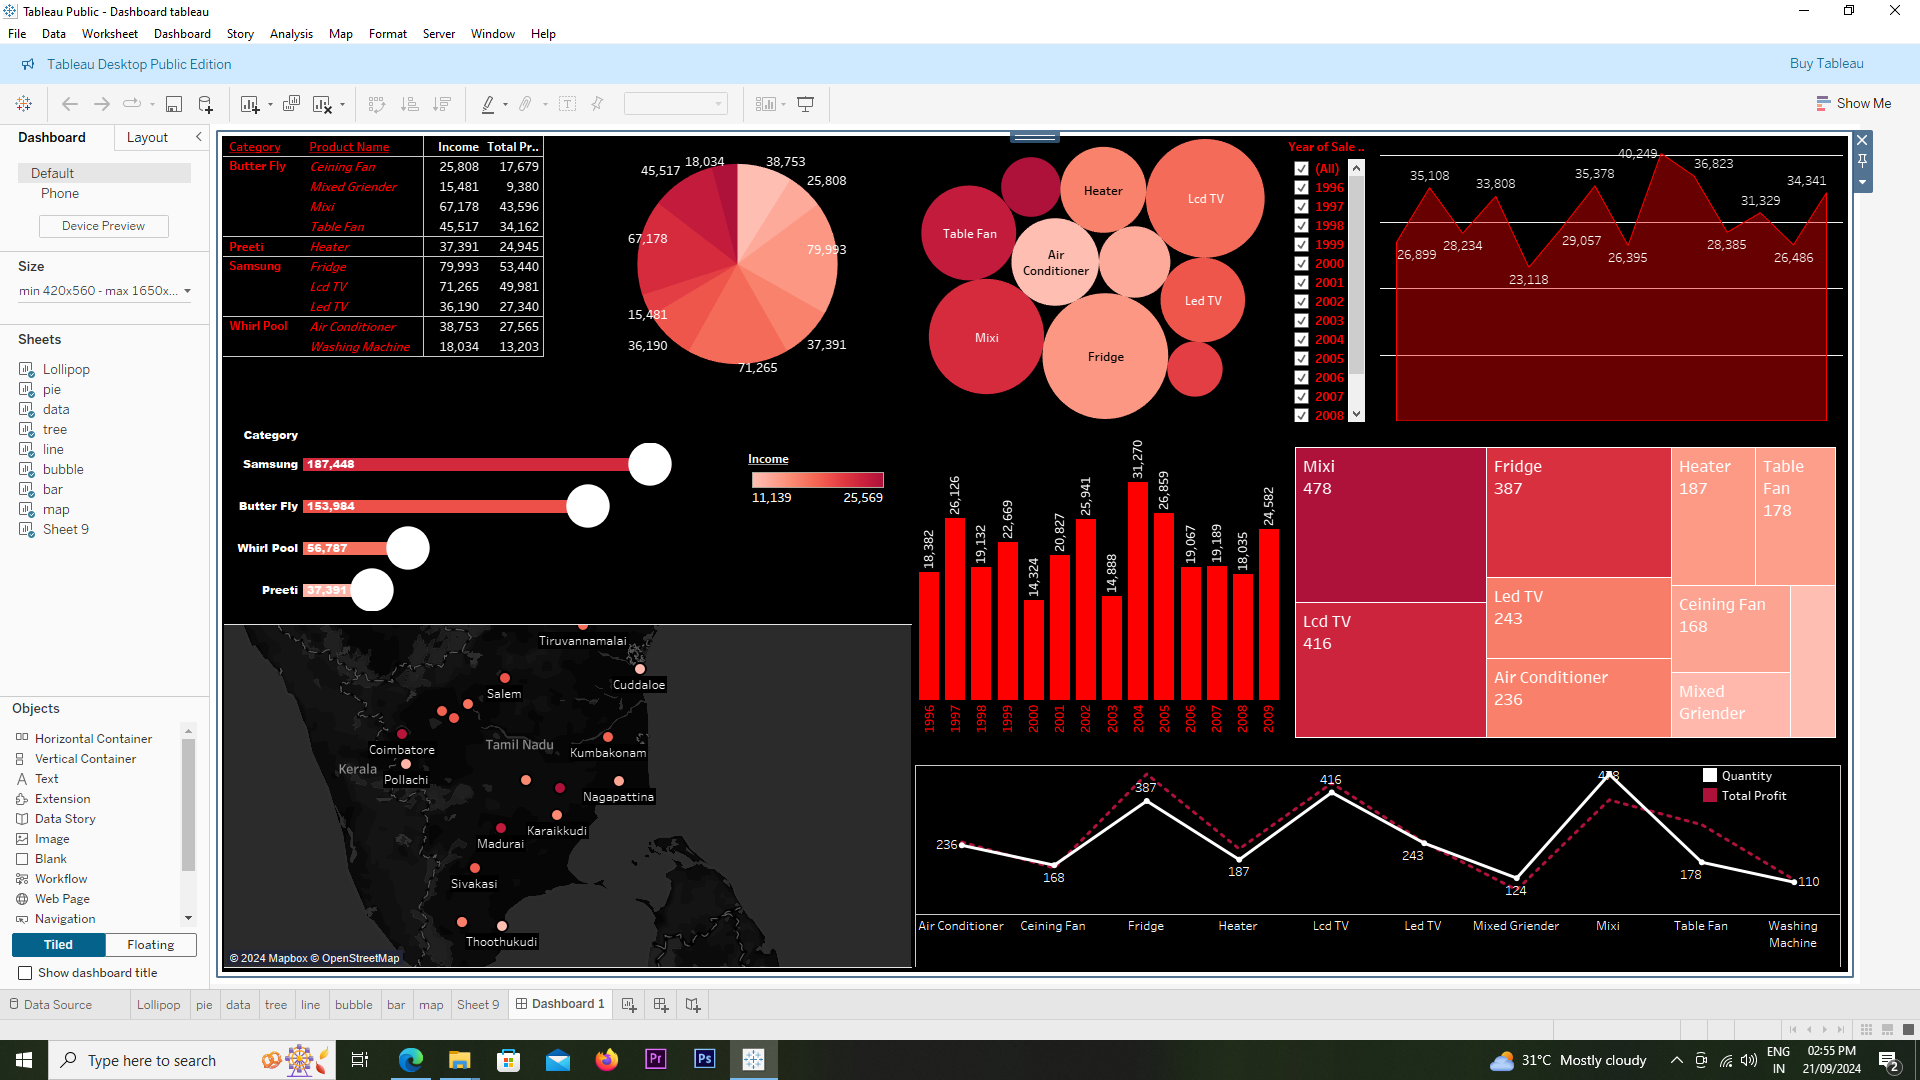

Layout of this report page (visuals, bound fields, positions):
{"tool":"tableau","page":{"name":"Dashboard 1","canvas":[1000,1000],"units":"permille","ordinal":0},"visuals":[{"type":"worksheet","title":"data","mark":"Automatic","rows":["Category","Product Name"],"box":[7.9,14,194.6,259.3]},{"type":"filter","title":"line","param":"[federated.1hx35rp0qlk85812q1dyl0s4wpvk].[yr:Sale Date:ok]","box":[653.3,16.3,46.7,330.2]},{"type":"worksheet","title":"bubble","mark":"Circle","box":[421.8,17.4,229.1,326.7]},{"type":"worksheet","title":"line","mark":"Area","rows":["Income"],"cols":["Sale Date"],"box":[709.1,18.6,280.6,326.7]},{"type":"worksheet","title":"pie","mark":"Pie","box":[252.7,31.4,176.4,313.9]},{"type":"worksheet","title":"Lollipop","mark":"Automatic","rows":["Category"],"cols":["Income","Income"],"box":[7.9,347.7,417,222.1]},{"type":"worksheet","title":"bar","mark":"Bar","rows":["Total Profit"],"cols":["Sale Date"],"box":[427.9,347.7,221.8,368.6]},{"type":"worksheet","title":"tree","mark":"Automatic","box":[655.1,370.9,333.3,346.5]},{"type":"legend","title":"map","param":"[federated.1hx35rp0qlk85812q1dyl0s4wpvk].[sum:Income:qk]","box":[326.1,379.1,84.9,88.4]},{"type":"worksheet","title":"map","mark":"Automatic","box":[8.5,581.4,417,400]},{"type":"worksheet","title":"Sheet 9","mark":"Line","rows":["Total Profit","Quantity"],"cols":["Product Name"],"box":[427.3,745.4,561.2,236.1]},{"type":"legend","title":"Sheet 9","param":"[federated.1hx35rp0qlk85812q1dyl0s4wpvk].[:Measure Names]","box":[903,745.4,84.9,61.6]}]}

Visuals, with their boxes on the dashboard's canvas, which has no fixed pixel size, in thousandths of its width and height (x1, y1, x2, y2). These are canvas units, not pixel positions in the 1920x1080 screenshot, which may show the page scaled, cropped or inside an application window:
"data" worksheet: box(8, 14, 202, 273)
"line" filter: box(653, 16, 700, 346)
"bubble" worksheet (Circle marks): box(422, 17, 651, 344)
"line" worksheet (Area marks): box(709, 19, 990, 345)
"pie" worksheet (Pie marks): box(253, 31, 429, 345)
"Lollipop" worksheet: box(8, 348, 425, 570)
"bar" worksheet (Bar marks): box(428, 348, 650, 716)
"tree" worksheet: box(655, 371, 988, 717)
"map" legend: box(326, 379, 411, 468)
"map" worksheet: box(8, 581, 426, 981)
"Sheet 9" worksheet (Line marks): box(427, 745, 988, 982)
"Sheet 9" legend: box(903, 745, 988, 807)
